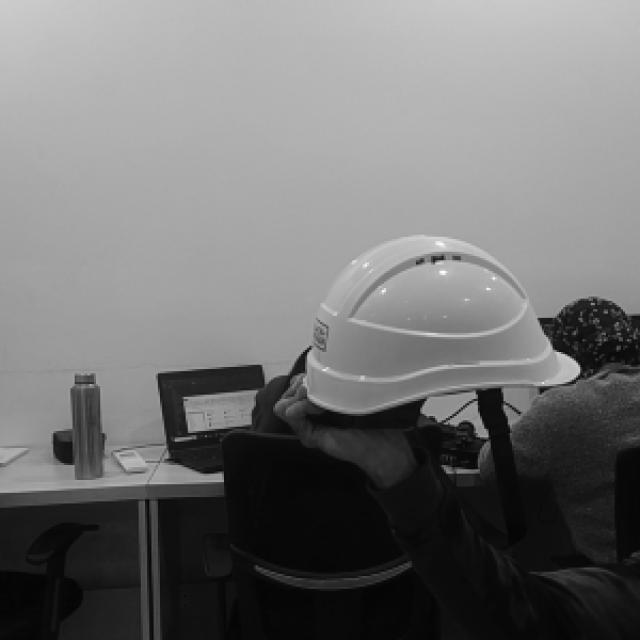safety_helmet: (306, 232, 581, 414)
